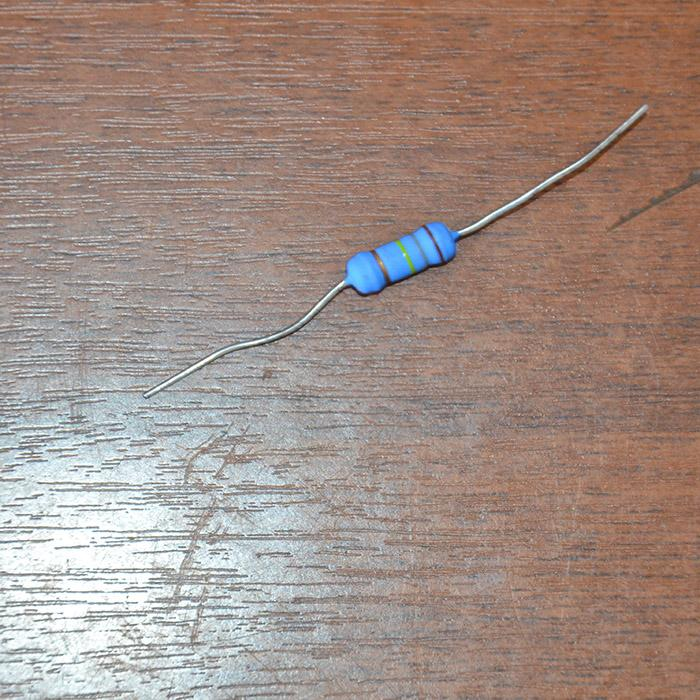resistor: (344, 220, 458, 295)
